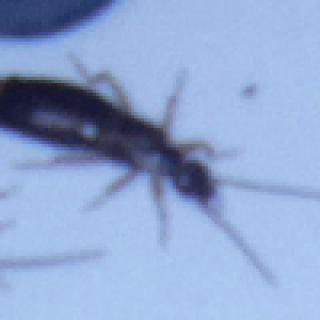earwig: (0, 53, 317, 290)
